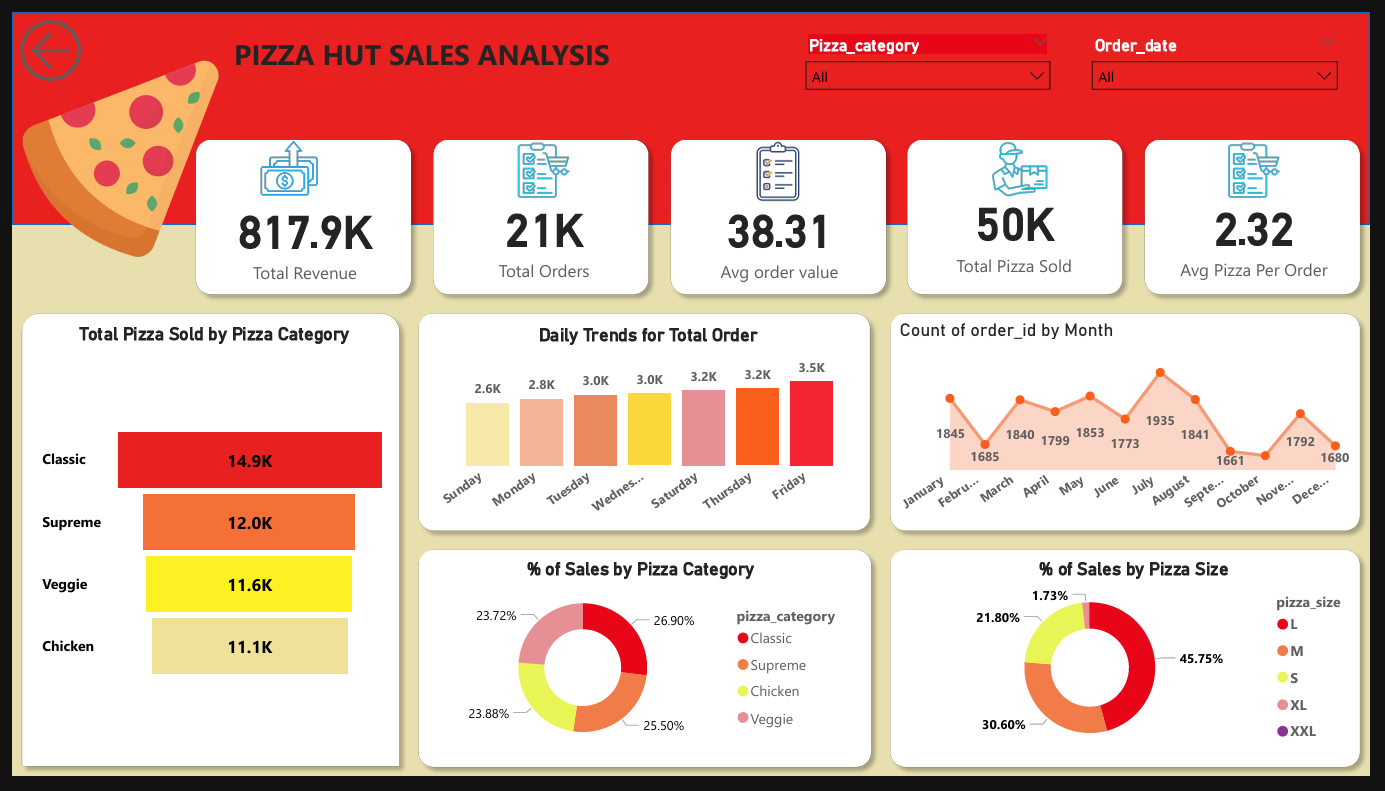

Layout of this report page (visuals, bound fields, positions):
{"tool":"powerbi","page":{"name":"Home","canvas":[1280,720],"ordinal":0},"visuals":[{"type":"shape","box":[0,0,1280.4,200.4],"z":0},{"type":"shape","box":[164.5,111.2,221.1,163.8],"z":0,"group":"g1"},{"type":"shape","box":[388,111.2,221.1,163.8],"z":0,"group":"g5"},{"type":"shape","box":[611.6,111.2,221.1,163.8],"z":0,"group":"g2"},{"type":"shape","box":[835.2,111.2,221.1,163.8],"z":0,"group":"g3"},{"type":"shape","box":[1058.8,111.2,221.1,163.8],"z":0,"group":"g4"},{"type":"image","box":[0,17.5,203.6,240.2],"z":1000},{"type":"group","id":"g1","title":"Group 1","box":[164.5,111.2,221.1,163.8],"z":1000,"group":"g6"},{"type":"card","fields":{"Values":["Sum(pizza_sales.quantity)"]},"box":[849.2,153.9,192.5,105],"z":1000,"group":"g3"},{"type":"card","fields":{"Values":["Sum(pizza_sales.total_price)"]},"box":[184.4,165,184.5,97],"z":1000,"group":"g1"},{"type":"card","fields":{"Values":["Count(pizza_sales.order_id)"]},"box":[410.2,165,182.9,93.8],"z":1000,"group":"g5"},{"type":"card","fields":{"Values":["pizza_sales.Avg order value"]},"box":[628.1,165,190.9,95.4],"z":1000,"group":"g2"},{"type":"card","fields":{"Values":["pizza_sales.Avg Pizza Per Order"]},"box":[1081.4,165,178.1,92.3],"z":1000,"group":"g4"},{"type":"textbox","box":[203.6,15.9,389.7,55.7],"z":2000},{"type":"group","id":"g2","title":"Group 1","box":[611.6,111.2,221.1,163.8],"z":2000,"group":"g8"},{"type":"slicer","fields":{"Values":["pizza_sales.pizza_category"]},"box":[738,15.9,251.3,62],"z":3000},{"type":"group","id":"g3","title":"Group 1","box":[835.2,111.2,221.1,163.8],"z":3000,"group":"g9"},{"type":"slicer","fields":{"Values":["pizza_sales.order_date"]},"box":[1008.4,15.9,251.3,62],"z":4000},{"type":"group","id":"g4","title":"Group 1","box":[1058.8,111.2,221.1,163.8],"z":4000,"group":"g10"},{"type":"actionButton","box":[0,0,79.5,71.6],"z":5000},{"type":"group","id":"g5","title":"Group 1","box":[388,111.2,221.1,163.8],"z":5000,"group":"g7"},{"type":"group","id":"g6","title":"Group 2","box":[164.5,111.2,221.1,163.8],"z":6000},{"type":"shape","box":[0,275.2,373.8,445.4],"z":6000,"group":"g16"},{"type":"group","id":"g7","title":"Group 3","box":[388,111.2,221.1,163.8],"z":7000},{"type":"shape","box":[373.8,275.2,443.8,222.7],"z":7000,"group":"g17"},{"type":"group","id":"g8","title":"Group 4","box":[611.6,111.2,221.1,163.8],"z":8000},{"type":"shape","box":[373.8,497.9,445.4,222.7],"z":8000,"group":"g20"},{"type":"group","id":"g9","title":"Group 5","box":[835.2,111.2,221.1,163.8],"z":9000},{"type":"shape","box":[819.2,497.9,461.3,222.7],"z":9000,"group":"g22"},{"type":"group","id":"g10","title":"Group 6","box":[1058.8,111.2,221.1,163.8],"z":10000},{"type":"shape","box":[819.2,275.2,461.3,222.7],"z":10000,"group":"g19"},{"type":"group","id":"g11","title":"Group 7","box":[0,275.2,373.8,445.4],"z":11000},{"type":"funnel","title":"Total Pizza Sold by Pizza Category","fields":{"Category":["pizza_sales.pizza_category"],"Y":["Sum(pizza_sales.quantity)"]},"box":[22.9,293.6,335.2,414],"z":11000,"group":"g16"},{"type":"group","id":"g12","title":"Group 8","box":[373.8,275.2,443.8,222.7],"z":12000},{"type":"donutChart","title":"% of Sales by Pizza Category","fields":{"Category":["pizza_sales.pizza_category"],"Y":["Sum(pizza_sales.unit_price)"]},"box":[388.1,515.4,408.8,187.7],"z":12000,"group":"g20"},{"type":"group","id":"g13","title":"Group 9","box":[819.2,275.2,461.3,222.7],"z":13000},{"type":"donutChart","title":"% of Sales by Pizza Size","fields":{"Category":["pizza_sales.pizza_size"],"Y":["Sum(pizza_sales.unit_price)"]},"box":[835.1,515.4,445.4,187.7],"z":13000,"group":"g22"},{"type":"group","id":"g14","title":"Group 10","box":[373.8,497.9,445.4,222.7],"z":14000},{"type":"group","id":"g15","title":"Group 11","box":[819.2,497.9,461.3,222.7],"z":15000},{"type":"group","id":"g16","title":"Group 12","box":[0,275.2,373.8,445.4],"z":15001,"group":"g11"},{"type":"group","id":"g17","title":"Group 13","box":[373.8,275.2,443.8,222.7],"z":15001,"group":"g12"},{"type":"group","id":"g18","title":"Group 14","box":[819.2,275.2,461.3,222.7],"z":15001,"group":"g13"},{"type":"group","id":"g19","title":"Group 18","box":[819.2,275.2,461.3,222.7],"z":15001,"group":"g18"},{"type":"group","id":"g20","title":"Group 15","box":[373.8,497.9,445.4,222.7],"z":15001,"group":"g14"},{"type":"group","id":"g21","title":"Group 16","box":[819.2,497.9,461.3,222.7],"z":15001,"group":"g15"},{"type":"group","id":"g22","title":"Group 17","box":[819.2,497.9,461.3,222.7],"z":15001,"group":"g21"},{"type":"image","box":[911.4,116.2,77.9,63.6],"z":18000,"group":"g9"},{"type":"image","box":[469.2,111.4,63.6,74.8],"z":19000,"group":"g7"},{"type":"image","box":[1138.9,111.4,63.6,74.8],"z":20000,"group":"g10"},{"type":"image","box":[218,111.4,87.5,71.6],"z":21000,"group":"g6"},{"type":"image","box":[685.5,116.2,71.6,68.4],"z":22000,"group":"g8"},{"type":"columnChart","title":"Daily Trends for Total Order","fields":{"Category":["pizza_sales.Day Name"],"Y":["Count(pizza_sales.order_id)"]},"box":[399.2,294.3,400.8,192.5],"z":23000,"group":"g17"},{"type":"stackedAreaChart","fields":{"Y":["Count(pizza_sales.order_id)"],"Category":["pizza_sales.order_date.Variation.Date Hierarchy.Month"]},"box":[831.9,289.5,434.2,192.5],"z":24000,"group":"g19"}]}

Visuals, with their boxes in screenshot pixels (x1, y1, x2, y2), scaled from the page's 1280x720 canvas onto the 1385x791 screenshot:
shape: x1=0, y1=0, x2=1384, y2=220
shape: x1=178, y1=122, x2=417, y2=302
shape: x1=420, y1=122, x2=659, y2=302
shape: x1=662, y1=122, x2=901, y2=302
shape: x1=904, y1=122, x2=1143, y2=302
shape: x1=1146, y1=122, x2=1384, y2=302
image: x1=0, y1=19, x2=220, y2=283
"Group 1" group: x1=178, y1=122, x2=417, y2=302
card - Sum(pizza_sales.quantity): x1=919, y1=169, x2=1127, y2=284
card - Sum(pizza_sales.total_price): x1=200, y1=181, x2=399, y2=288
card - Count(pizza_sales.order_id): x1=444, y1=181, x2=642, y2=284
card - pizza_sales.Avg order value: x1=680, y1=181, x2=886, y2=286
card - pizza_sales.Avg Pizza Per Order: x1=1170, y1=181, x2=1363, y2=283
textbox: x1=220, y1=17, x2=642, y2=79
"Group 1" group: x1=662, y1=122, x2=901, y2=302
slicer - pizza_sales.pizza_category: x1=799, y1=17, x2=1070, y2=86
"Group 1" group: x1=904, y1=122, x2=1143, y2=302
slicer - pizza_sales.order_date: x1=1091, y1=17, x2=1363, y2=86
"Group 1" group: x1=1146, y1=122, x2=1384, y2=302
actionButton: x1=0, y1=0, x2=86, y2=79
"Group 1" group: x1=420, y1=122, x2=659, y2=302
"Group 2" group: x1=178, y1=122, x2=417, y2=302
shape: x1=0, y1=302, x2=404, y2=790
"Group 3" group: x1=420, y1=122, x2=659, y2=302
shape: x1=404, y1=302, x2=885, y2=547
"Group 4" group: x1=662, y1=122, x2=901, y2=302
shape: x1=404, y1=547, x2=886, y2=790
"Group 5" group: x1=904, y1=122, x2=1143, y2=302
shape: x1=886, y1=547, x2=1384, y2=790
"Group 6" group: x1=1146, y1=122, x2=1384, y2=302
shape: x1=886, y1=302, x2=1384, y2=547
"Group 7" group: x1=0, y1=302, x2=404, y2=790
"Total Pizza Sold by Pizza Category" funnel: x1=25, y1=323, x2=387, y2=777
"Group 8" group: x1=404, y1=302, x2=885, y2=547
"% of Sales by Pizza Category" donutChart: x1=420, y1=566, x2=862, y2=772
"Group 9" group: x1=886, y1=302, x2=1384, y2=547
"% of Sales by Pizza Size" donutChart: x1=904, y1=566, x2=1384, y2=772
"Group 10" group: x1=404, y1=547, x2=886, y2=790
"Group 11" group: x1=886, y1=547, x2=1384, y2=790
"Group 12" group: x1=0, y1=302, x2=404, y2=790
"Group 13" group: x1=404, y1=302, x2=885, y2=547
"Group 14" group: x1=886, y1=302, x2=1384, y2=547
"Group 18" group: x1=886, y1=302, x2=1384, y2=547
"Group 15" group: x1=404, y1=547, x2=886, y2=790
"Group 16" group: x1=886, y1=547, x2=1384, y2=790
"Group 17" group: x1=886, y1=547, x2=1384, y2=790
image: x1=986, y1=128, x2=1070, y2=198
image: x1=508, y1=122, x2=577, y2=205
image: x1=1232, y1=122, x2=1301, y2=205
image: x1=236, y1=122, x2=331, y2=201
image: x1=742, y1=128, x2=819, y2=203
"Daily Trends for Total Order" columnChart: x1=432, y1=323, x2=866, y2=535
stackedAreaChart - Count(pizza_sales.order_id) x pizza_sales.order_date.Variation.Date Hierarchy.Month: x1=900, y1=318, x2=1370, y2=530
